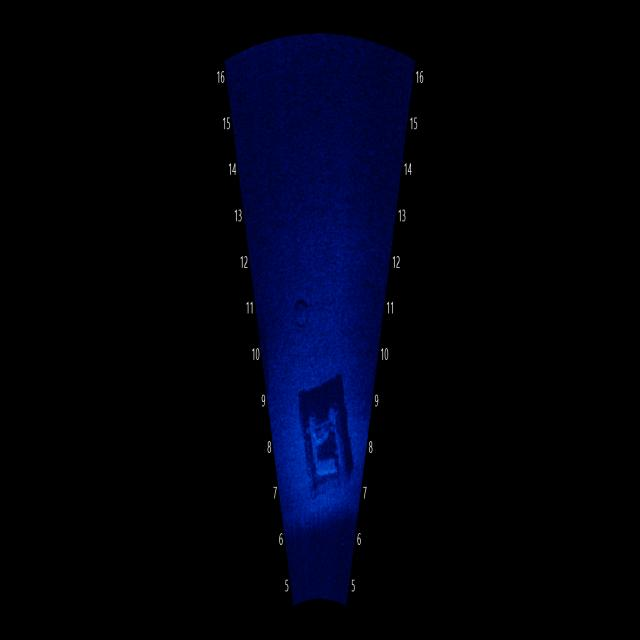square: (288, 390, 354, 508)
